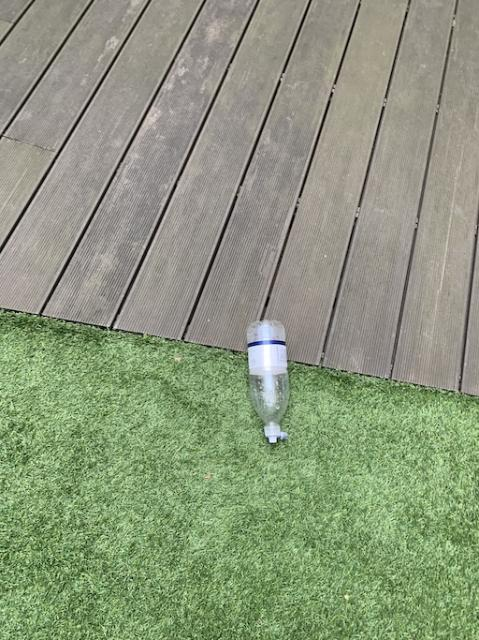plastic: (246, 319, 288, 441)
